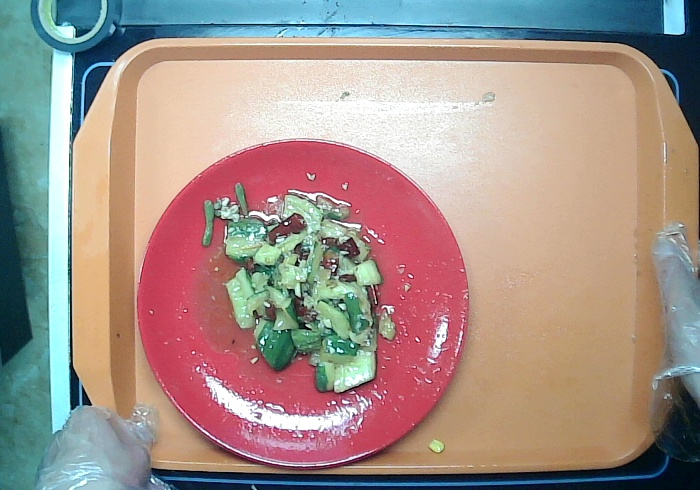HZYJPL-Hong_Se_Yuan_Pan: (134, 132, 469, 468)
